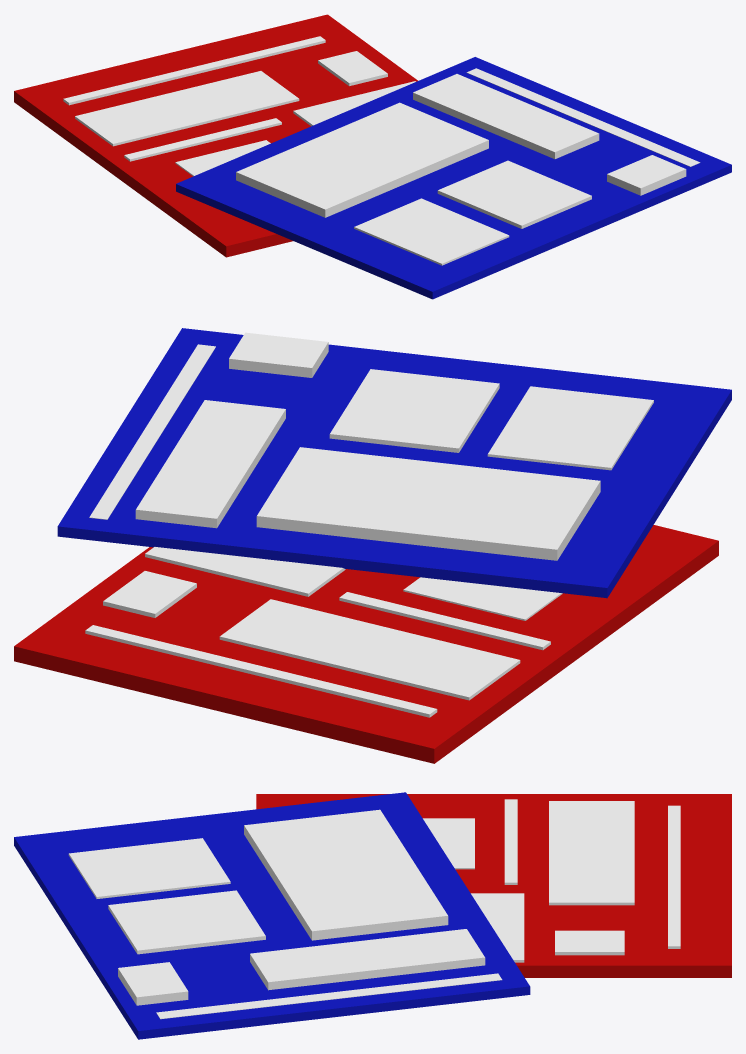
Rendered from Documents.obj.
3 views of the same model, one above another, from view 1: azimuth 30°, elevation 25°; view 2: azimuth 150°, elevation 25°; view 3: azimuth 270°, elevation 25° (orthographic). The views are drawn at different scales.
Parts seen in each view (by area): view 1: Cube.001_Cube.045, Cube_Cube.044, Cube.011_Cube.055, Cube.003_Cube.047, Cube.009_Cube.053, Cube.012_Cube.056, Cube.013_Cube.061, Cube.002_Cube.046, Cube.008_Cube.052, Cube.010_Cube.054, Cube.006_Cube.050, Cube.004_Cube.048 (+2 smaller); view 2: Cube.001_Cube.045, Cube_Cube.044, Cube.011_Cube.055, Cube.003_Cube.047, Cube.009_Cube.053, Cube.012_Cube.056, Cube.013_Cube.061, Cube.004_Cube.048, Cube.002_Cube.046, Cube.008_Cube.052, Cube.005_Cube.049, Cube.010_Cube.054 (+2 smaller); view 3: Cube.001_Cube.045, Cube_Cube.044, Cube.011_Cube.055, Cube.003_Cube.047, Cube.009_Cube.053, Cube.012_Cube.056, Cube.013_Cube.061, Cube.008_Cube.052, Cube.010_Cube.054, Cube.004_Cube.048, Cube.005_Cube.049, Cube.002_Cube.046 (+2 smaller).
Boxes of the visible parts, <box> form: Cube.001_Cube.045: <box>176,57,731,299</box>; Cube_Cube.044: <box>14,14,417,257</box>; Cube.011_Cube.055: <box>236,102,488,217</box>; Cube.003_Cube.047: <box>75,71,299,146</box>; Cube.009_Cube.053: <box>413,74,599,159</box>; Cube.012_Cube.056: <box>437,160,591,228</box>; Cube.013_Cube.061: <box>354,198,509,265</box>; Cube.002_Cube.046: <box>63,36,325,105</box>; Cube.008_Cube.052: <box>466,68,700,166</box>; Cube.010_Cube.054: <box>607,155,686,195</box>; Cube.006_Cube.050: <box>318,51,387,86</box>; Cube.004_Cube.048: <box>293,81,415,126</box>; Cube.001_Cube.045: <box>57,328,731,598</box>; Cube_Cube.044: <box>14,525,718,763</box>; Cube.011_Cube.055: <box>256,447,600,560</box>; Cube.003_Cube.047: <box>219,599,520,700</box>; Cube.009_Cube.053: <box>135,400,285,528</box>; Cube.012_Cube.056: <box>329,369,499,452</box>; Cube.013_Cube.061: <box>487,386,653,470</box>; Cube.004_Cube.048: <box>145,547,345,596</box>; Cube.002_Cube.046: <box>85,625,437,717</box>; Cube.008_Cube.052: <box>89,344,215,519</box>; Cube.005_Cube.049: <box>403,577,562,620</box>; Cube.010_Cube.054: <box>229,332,328,377</box>; Cube.001_Cube.045: <box>14,792,530,1039</box>; Cube_Cube.044: <box>256,794,731,977</box>; Cube.011_Cube.055: <box>244,809,448,940</box>; Cube.003_Cube.047: <box>549,801,634,905</box>; Cube.009_Cube.053: <box>250,929,485,990</box>; Cube.012_Cube.056: <box>108,890,265,954</box>; Cube.013_Cube.061: <box>68,838,230,898</box>; Cube.008_Cube.052: <box>156,973,502,1019</box>; Cube.010_Cube.054: <box>118,962,188,1005</box>; Cube.004_Cube.048: <box>471,893,524,962</box>; Cube.005_Cube.049: <box>423,818,474,869</box>; Cube.002_Cube.046: <box>668,805,680,948</box>.
Size of the model in its own units: 2.02 by 0.1239 by 2.48.
